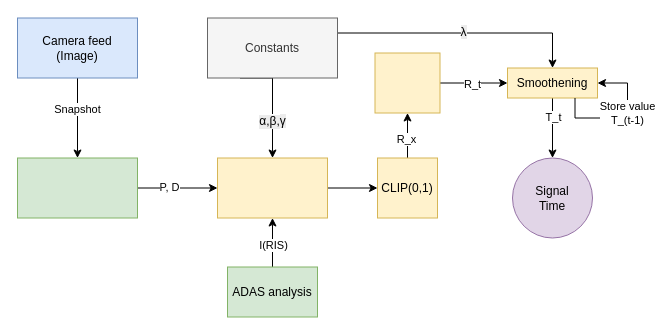
Some shapes in this 672 by 334 pixel diagram are drawn without their labels. The centre of each missing label's shape, as x and y in pixels:
f( α ,D, β,P, γ,I ): point (272, 187)
Limit Range: point (407, 82)
YOLOv8 counter: point (77, 187)
